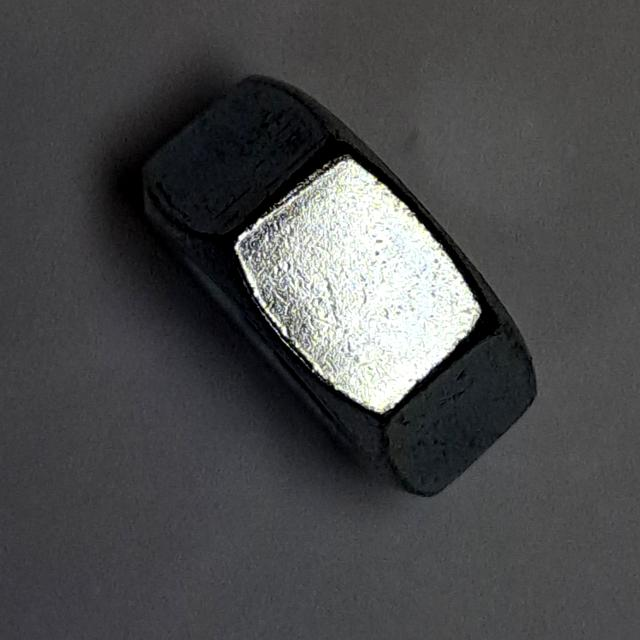Side_Excellent: (132, 59, 549, 508)
